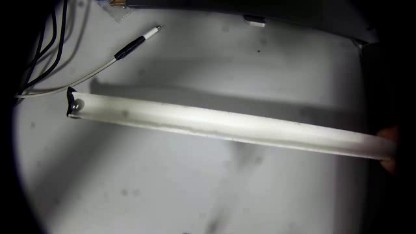gangzhu: (70, 96, 83, 116)
